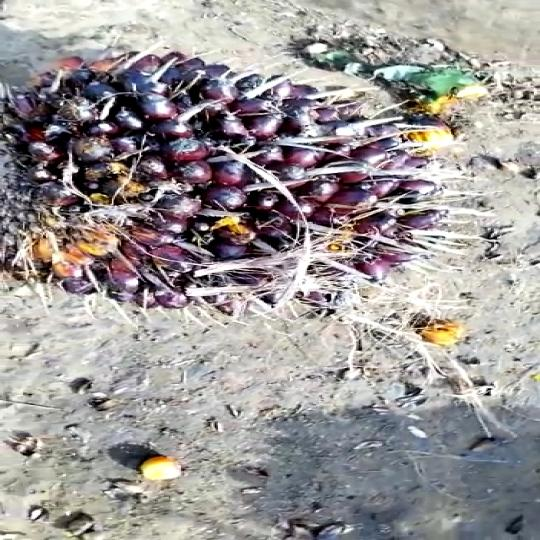kurang masak: (0, 51, 436, 318)
